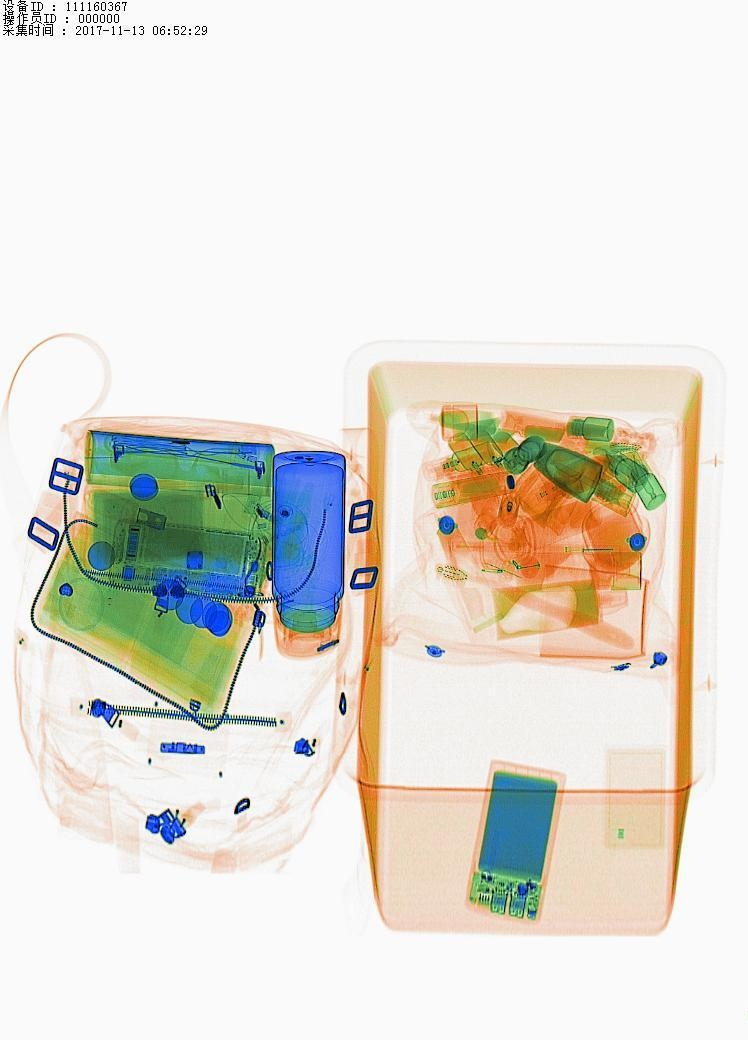coreless: (481, 759, 556, 939)
